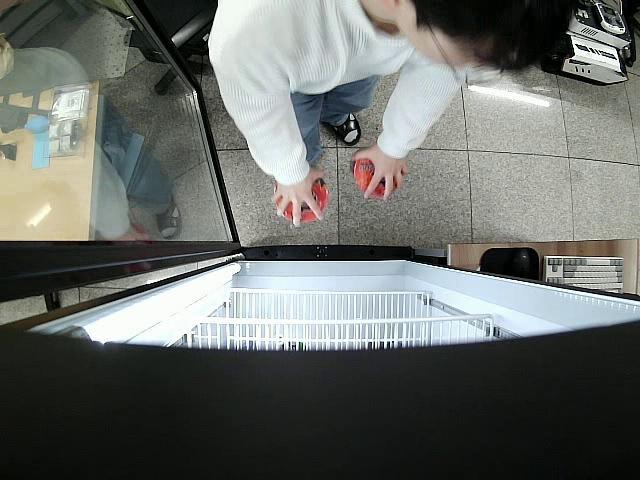01_ShinRamen_L: (276, 175, 328, 222), (354, 160, 402, 200)
